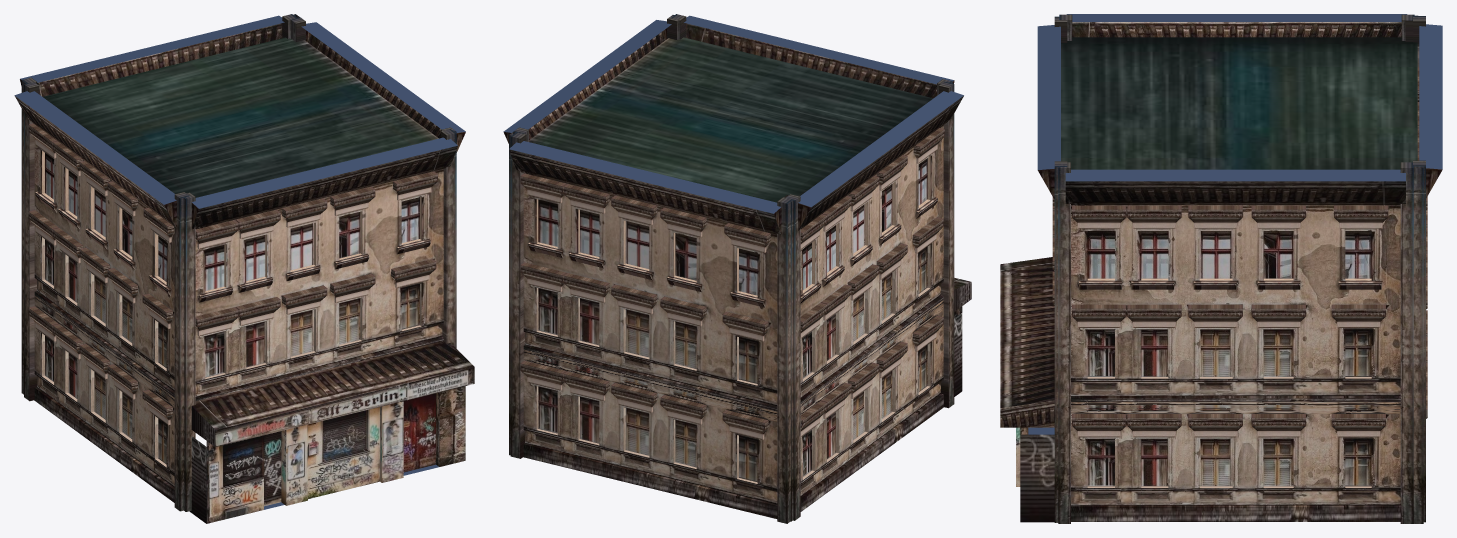
The picture shows the model from 3 angles, left to right: view 1: azimuth 30°, elevation 25°; view 2: azimuth 150°, elevation 25°; view 3: azimuth 270°, elevation 25°; orthographic projection. The views are drawn at different scales.
Visible parts, largest first — view 1: Plane.031; view 2: Plane.031; view 3: Plane.031.
Part boxes in pixels (<box>): Plane.031: <box>14,14,474,523</box>; Plane.031: <box>503,14,971,523</box>; Plane.031: <box>1000,14,1442,523</box>.
Size of the model in its own units: 2.56 by 2.56 by 2.86.
2 materials, 2 textured.
